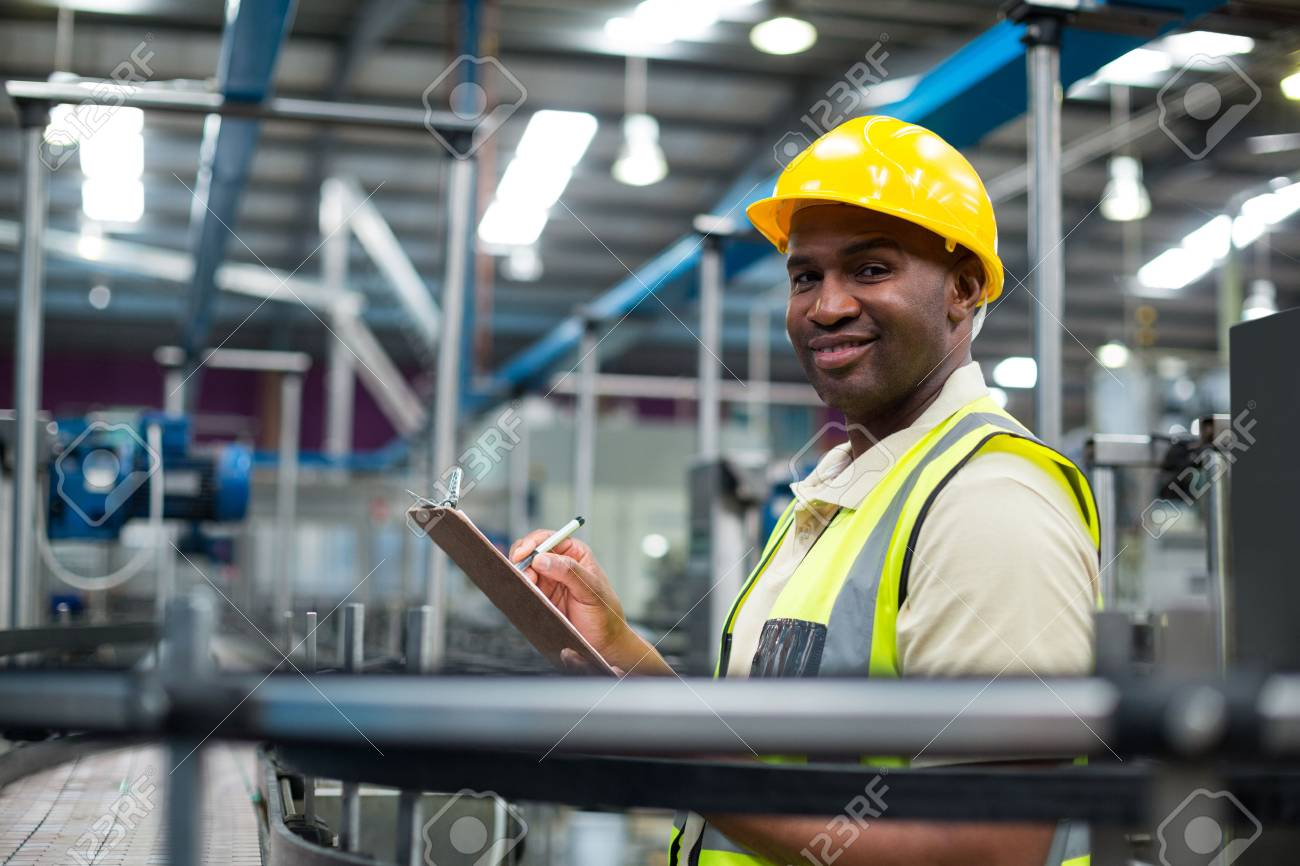Hard Hat: (757, 111, 1010, 279)
High Viz: (711, 409, 1117, 686)
